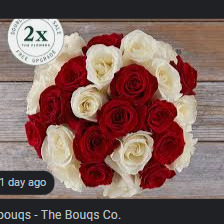RedRose: (95, 99, 146, 137), (73, 126, 118, 164), (112, 68, 156, 102), (38, 86, 73, 124), (78, 153, 117, 187), (153, 124, 183, 165), (24, 112, 50, 156), (139, 157, 174, 189), (144, 100, 181, 130), (57, 58, 89, 88)
